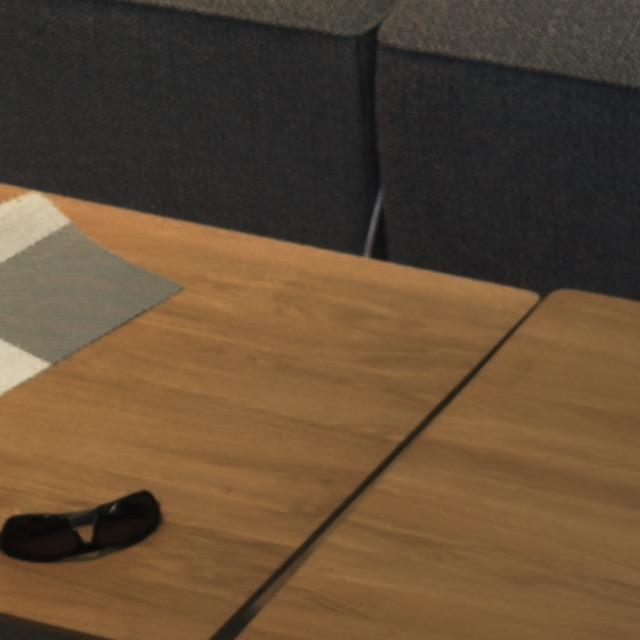Sunglasses: (2, 489, 165, 567)
